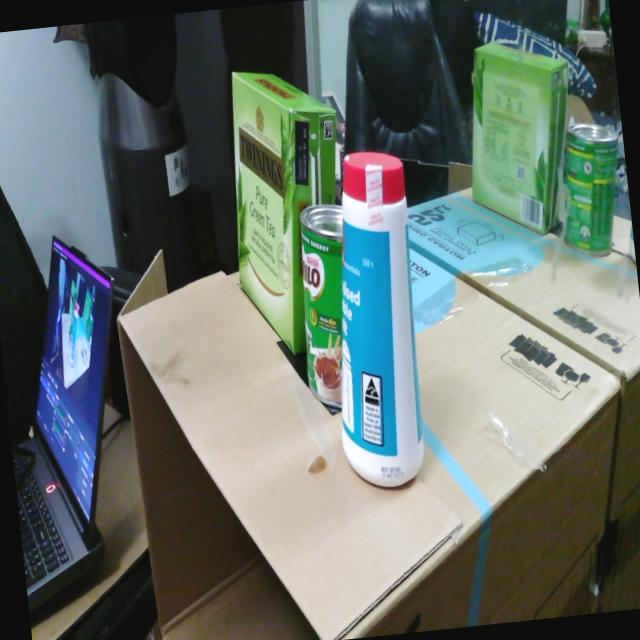nestle_milo_tin: (299, 204, 343, 408)
twinings_greentea_box: (232, 72, 335, 353)
woolworths_salt_bottle: (341, 152, 423, 486)
